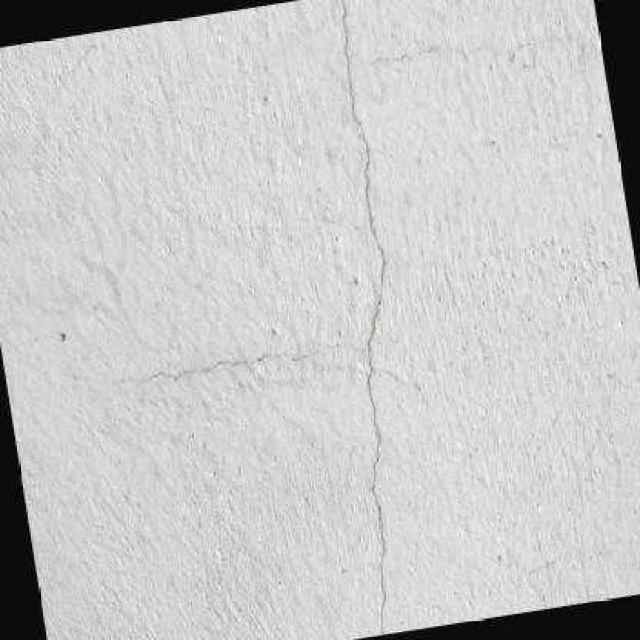D00: (341, 0, 385, 634)
